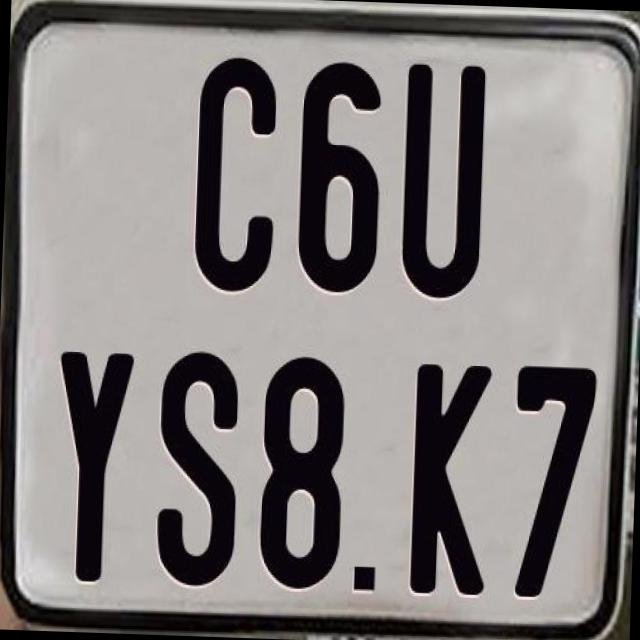6: (293, 58, 381, 293)
7: (508, 364, 604, 604)
8: (253, 350, 341, 593)
C: (192, 56, 278, 302)
K: (406, 361, 496, 598)
S: (155, 348, 243, 586)
U: (396, 58, 484, 296)
Y: (50, 351, 132, 582)
